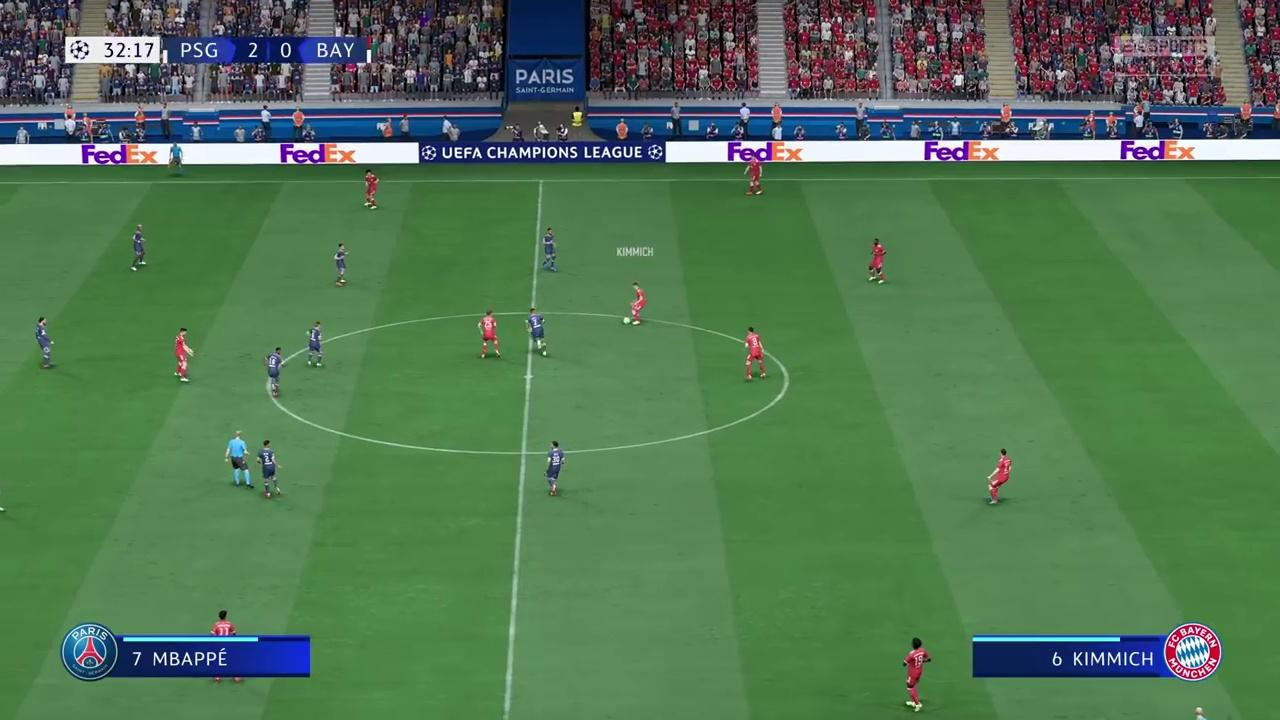scoreboard: (166, 36, 373, 66)
timestamp: (64, 36, 162, 64)
